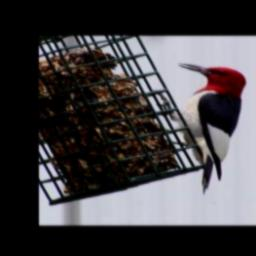Woodpecker: (159, 62, 248, 194)
